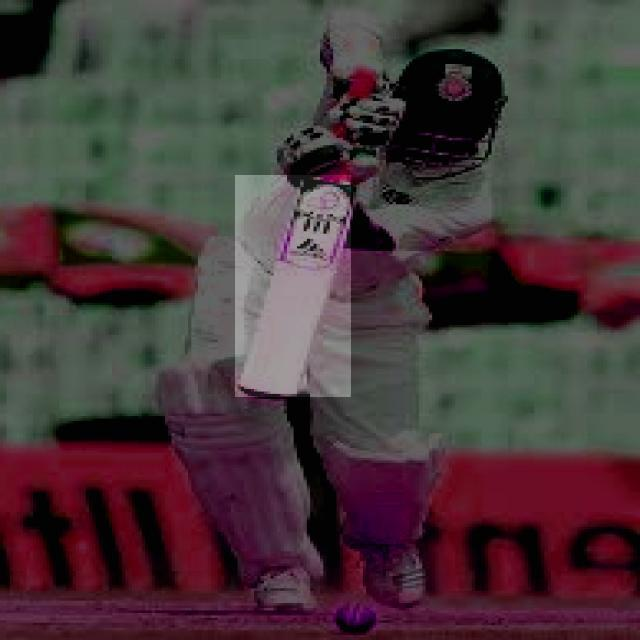bat: (235, 175, 351, 400)
toe: (240, 385, 300, 406)
